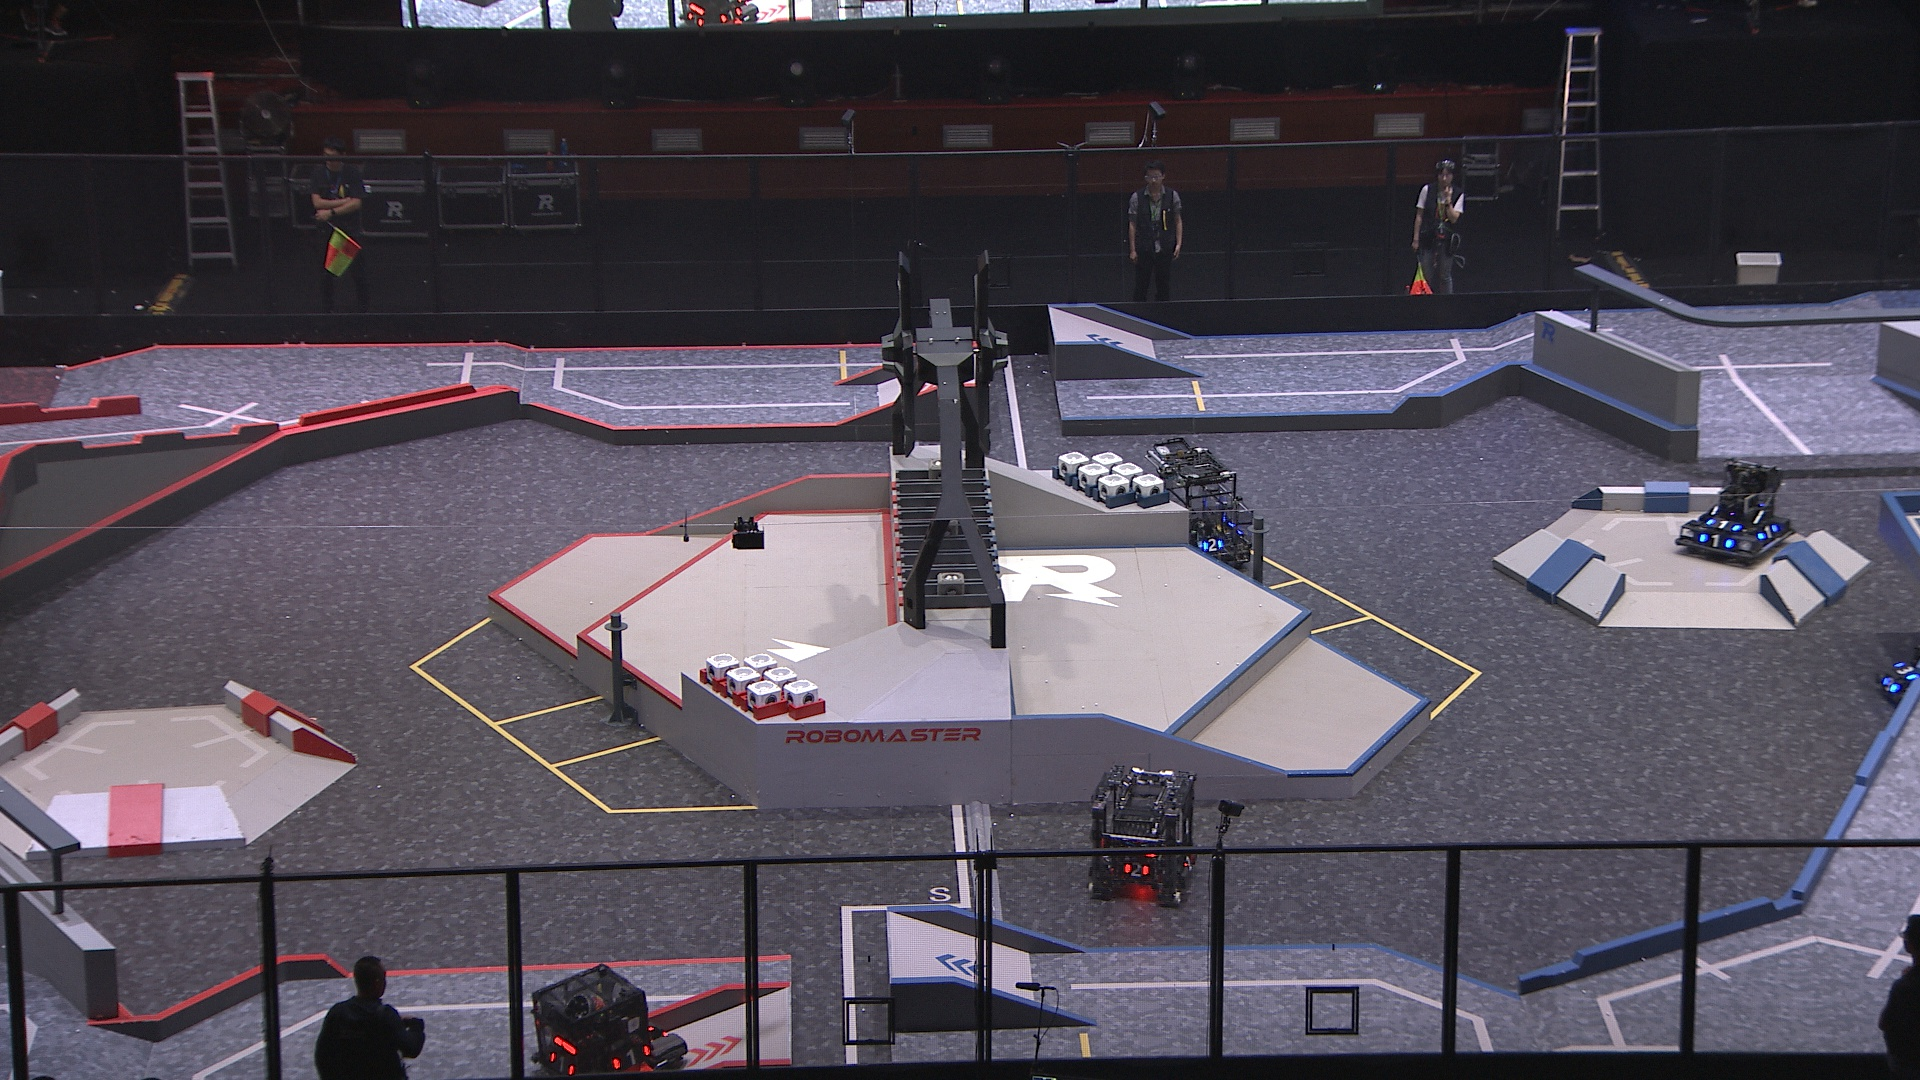armor: (613, 1043, 650, 1068), (1695, 531, 1738, 553), (551, 1048, 575, 1076), (1702, 517, 1735, 533), (1122, 861, 1150, 878), (1756, 524, 1779, 543), (1894, 661, 1916, 680), (1200, 538, 1224, 553), (1883, 676, 1898, 698), (1182, 853, 1193, 872)
car: (529, 971, 698, 1080), (1141, 436, 1253, 582), (1084, 764, 1193, 907), (1673, 458, 1793, 567), (1878, 624, 1920, 707)
